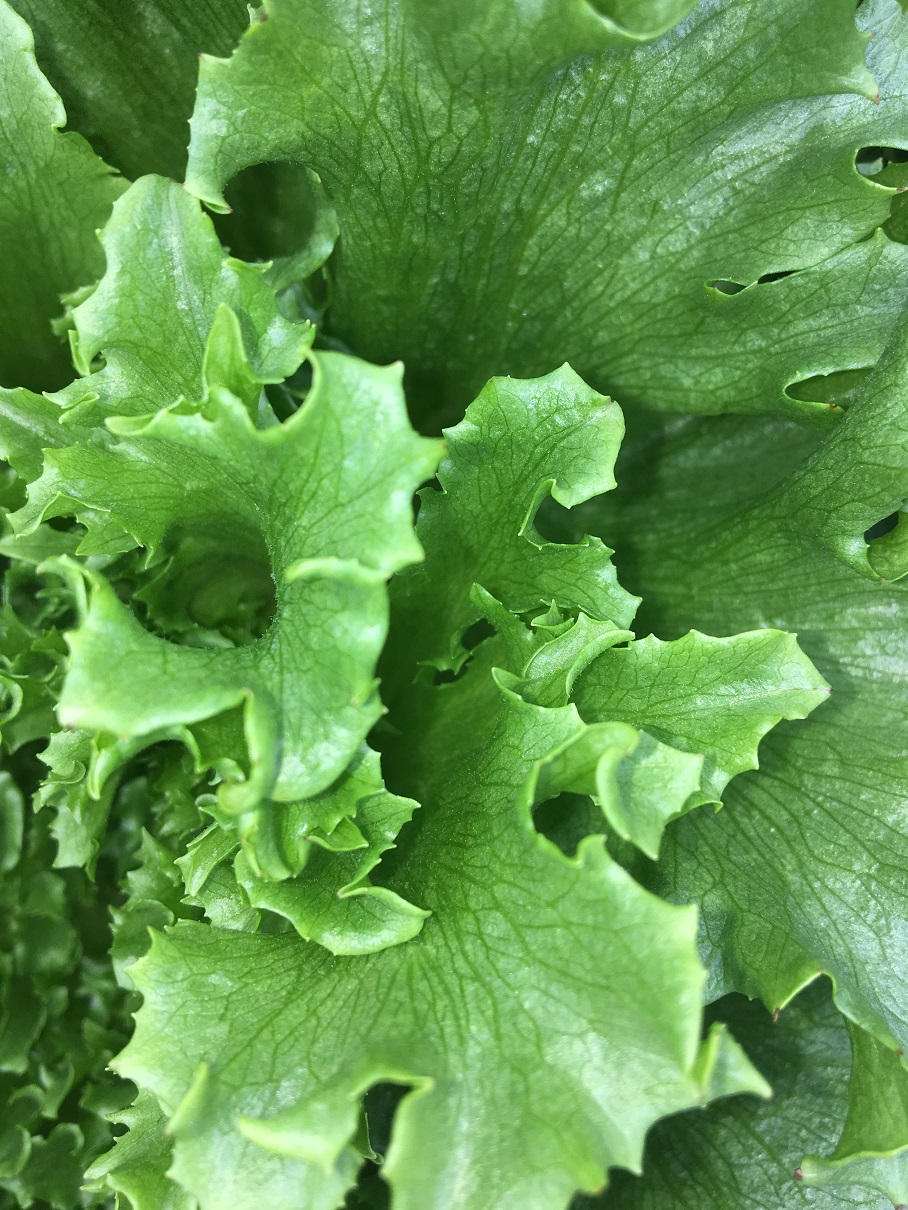tipburn: (49, 696, 104, 742), (850, 78, 894, 118), (810, 382, 851, 424), (750, 996, 791, 1037), (777, 1153, 817, 1195), (875, 167, 908, 214), (878, 1029, 908, 1076), (246, 1, 285, 35), (812, 673, 847, 709), (810, 954, 845, 990), (861, 16, 895, 49), (882, 1176, 908, 1210), (294, 831, 316, 852)
